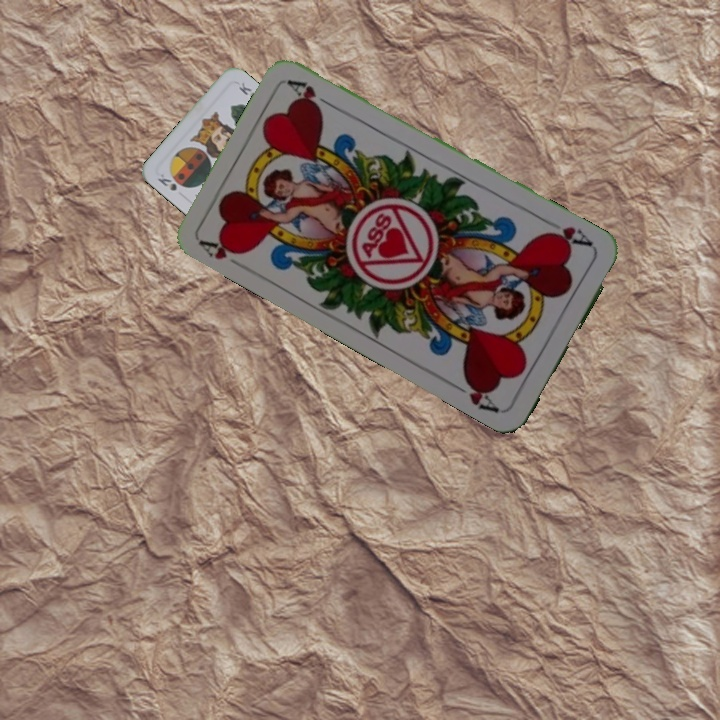HA: (196, 233, 251, 273), (542, 222, 596, 250)
SK: (153, 168, 179, 193)
